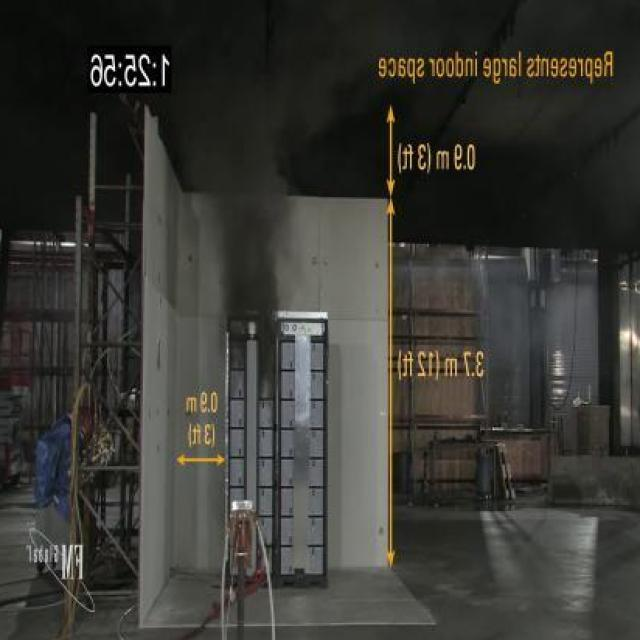fire: (176, 78, 299, 299)
